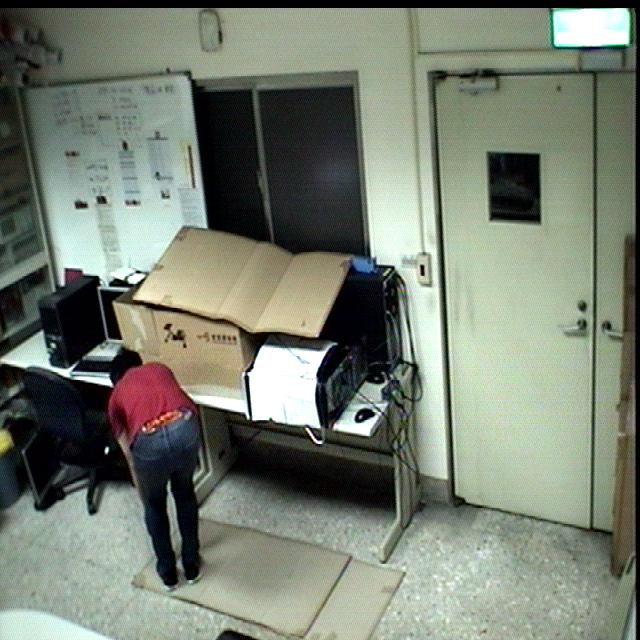bend: (105, 347, 216, 588)
